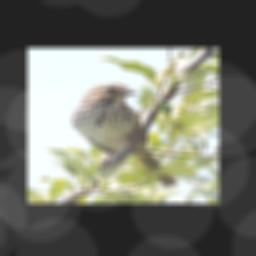Sparrow: (72, 83, 179, 186)
